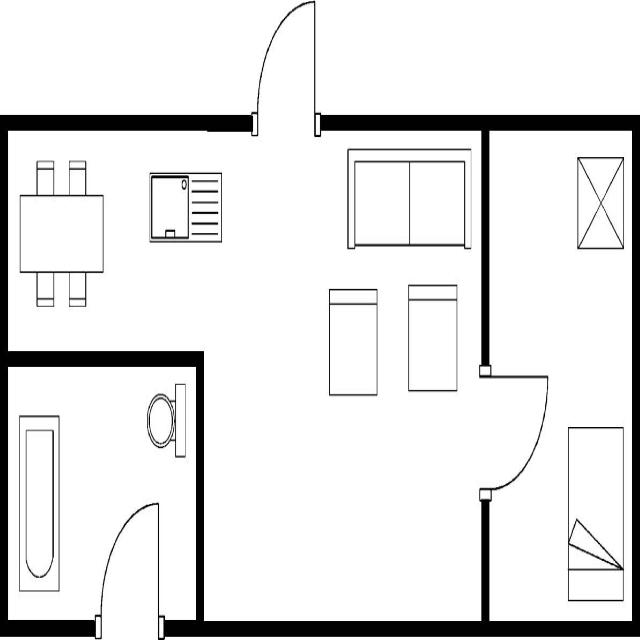bed: (564, 418, 626, 605)
coffee_table: (573, 149, 629, 254)
dining_table: (15, 150, 106, 312)
large_sink: (143, 373, 189, 467)
large_sofa: (343, 142, 473, 258)
sink: (146, 163, 225, 250)
small_sofa: (324, 279, 383, 402), (404, 277, 462, 399)
tub: (15, 408, 62, 598)
